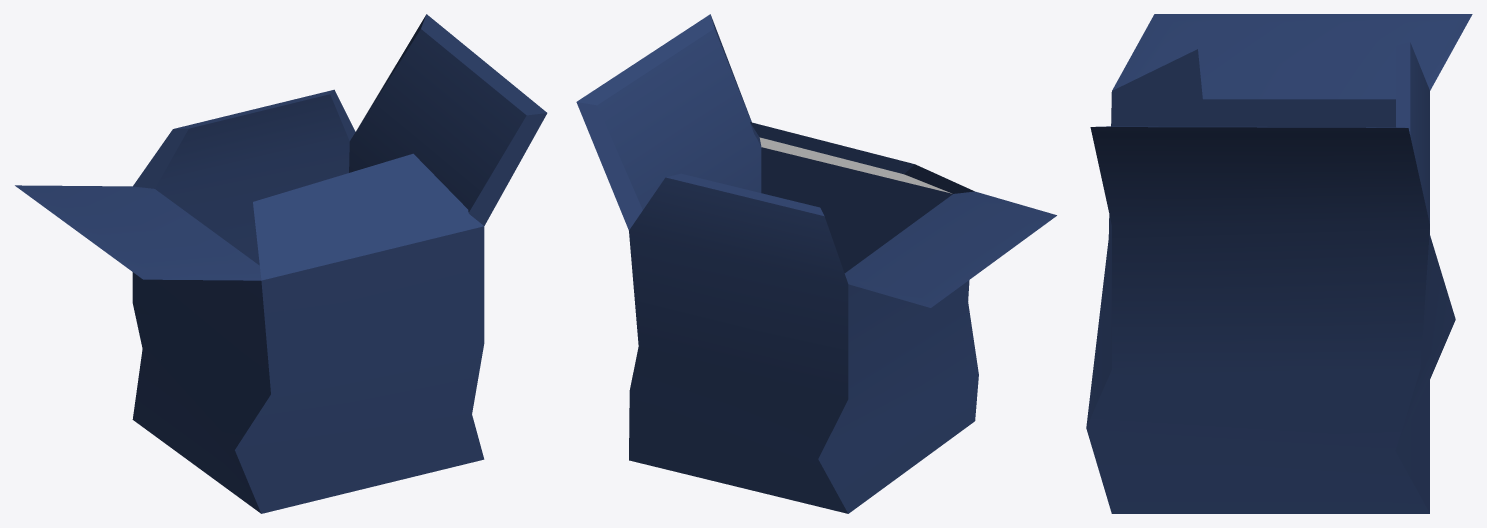
File: Loot_Box2.fbx
3 views of the same model, side by side, from view 1: azimuth 30°, elevation 25°; view 2: azimuth 150°, elevation 25°; view 3: azimuth 270°, elevation 25° (orthographic). The views are drawn at different scales.
Visible parts, largest first — view 1: Cube.021; view 2: Cube.021; view 3: Cube.021.
Boxes of the visible parts, x1,y1,x2,y2 form: Cube.021: [15, 14, 547, 513]; Cube.021: [576, 14, 1056, 513]; Cube.021: [1086, 14, 1472, 513].
Bounding box in the file's own units: 346 × 294 × 243.
